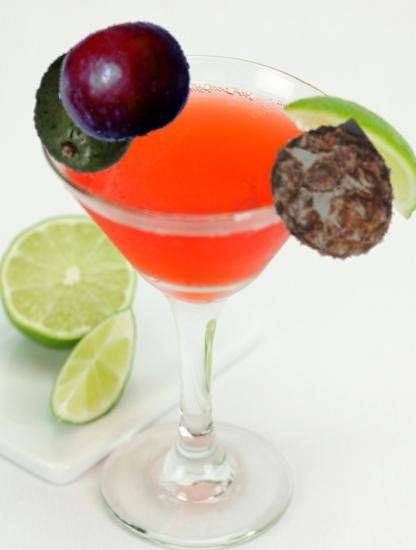Avocado: (30, 48, 157, 175)
Pineapple: (263, 122, 405, 264)
Plum: (57, 13, 193, 149)
